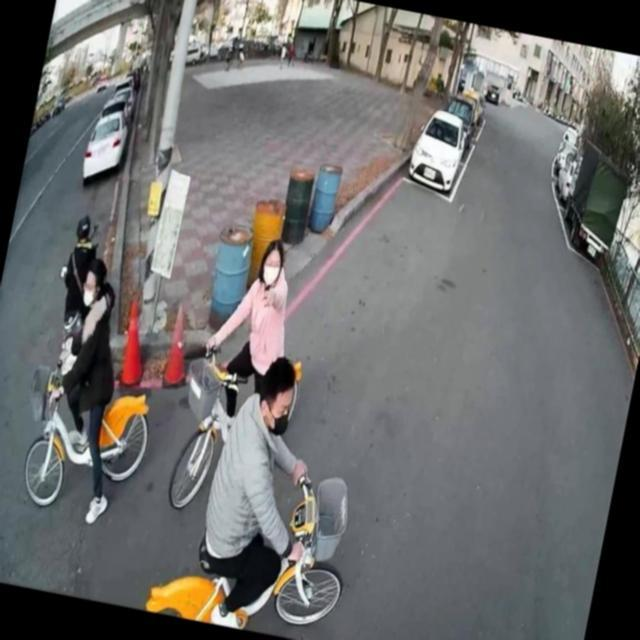person: (181, 343, 343, 640), (27, 251, 154, 530), (188, 222, 310, 442), (50, 210, 110, 344)
